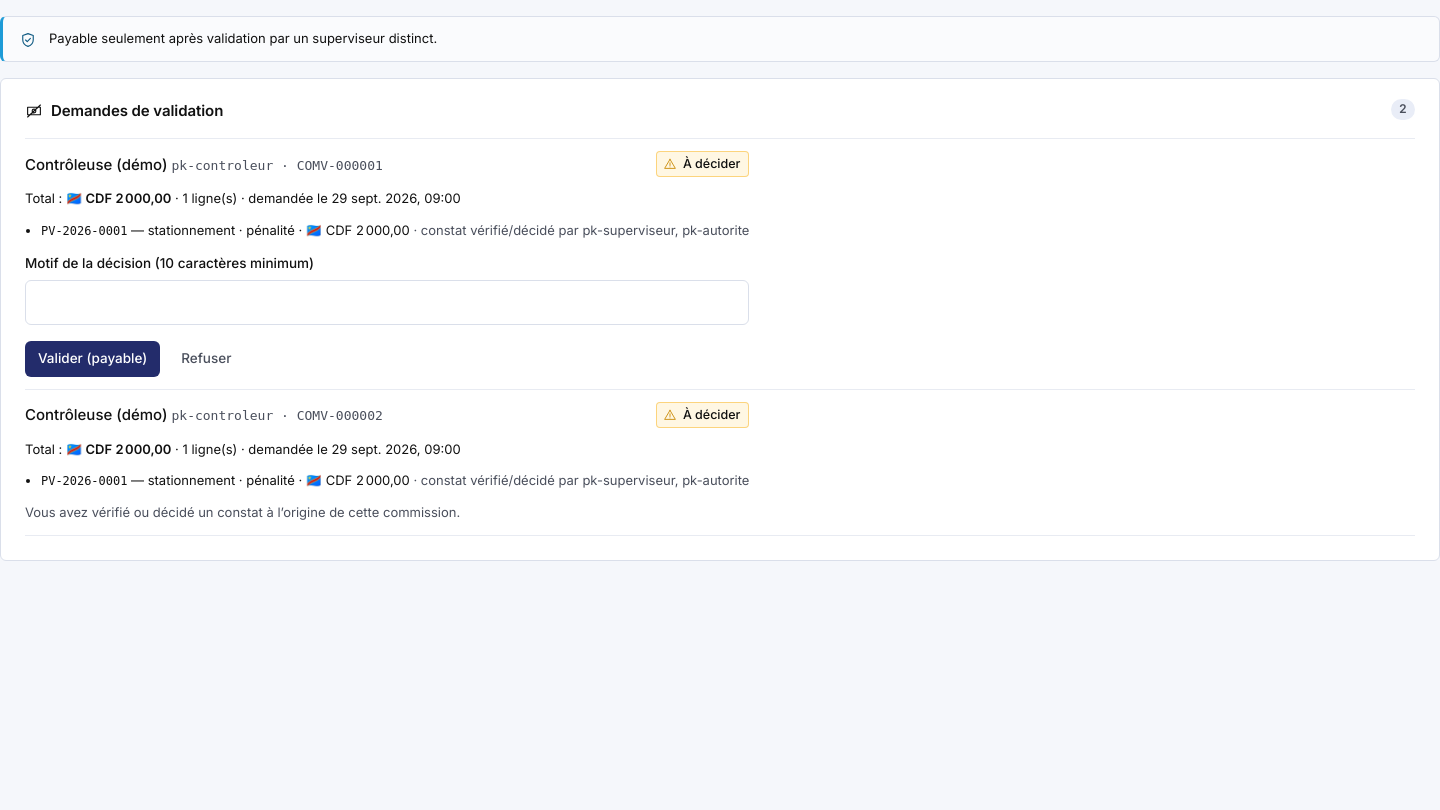
Scenario: Commissions : file de validation (superviseur distinct) et demande par l’agent › un superviseur non intervenu valide avec motif ; le vérificateur voit la raison du blocage
The width and height of the screenshot is (1440, 810).
Later steps or results of the test are not shown.
expect the text with test id "commission-block" shows "vérifié ou décidé": met, box [25, 504, 460, 520]
Click the button "Valider (payable)" at {"x": 93, "y": 359}, box [25, 341, 160, 377]
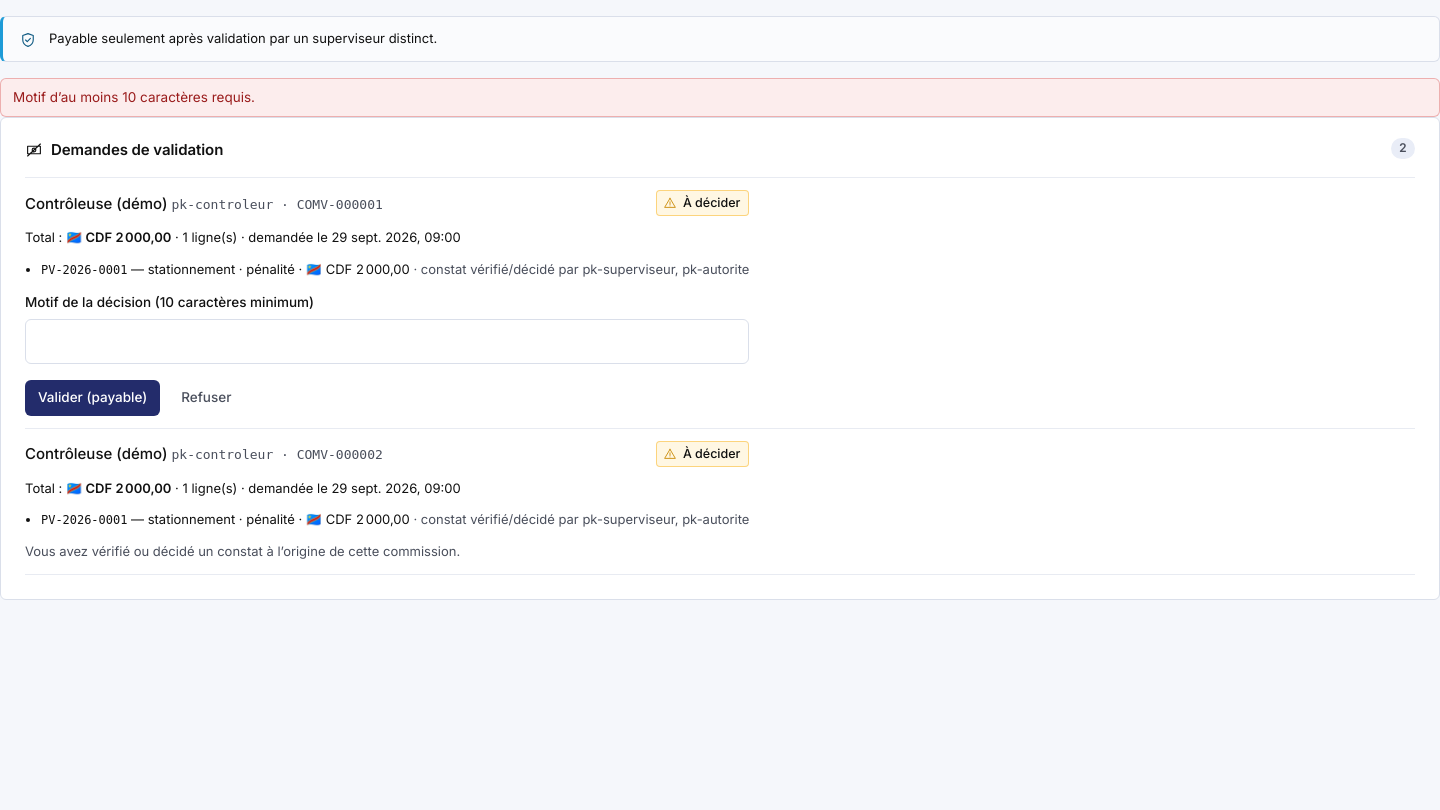
expect the message "Motif d’au moins 10 caractères requis." is shown: met, box [0, 78, 1439, 117]
